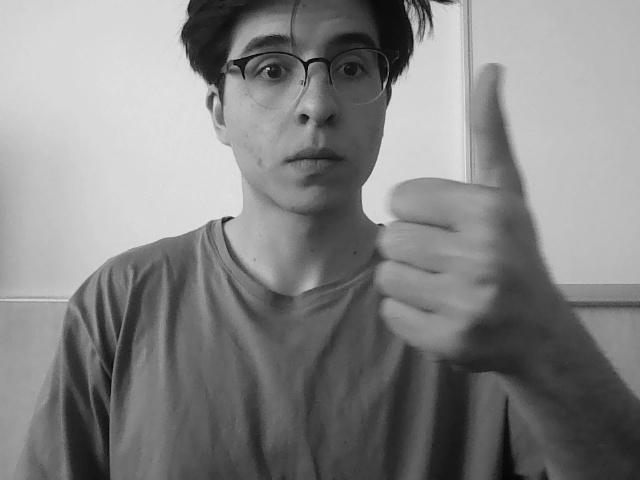good: (371, 59, 557, 379)
